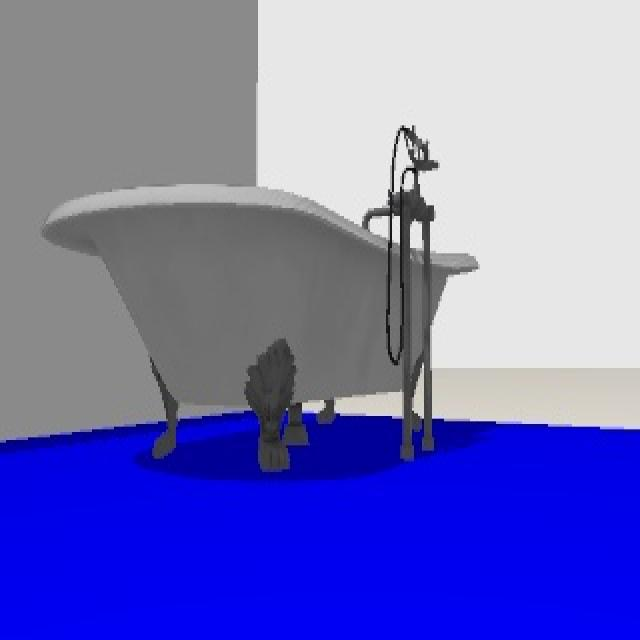bathtub: (47, 122, 474, 470)
